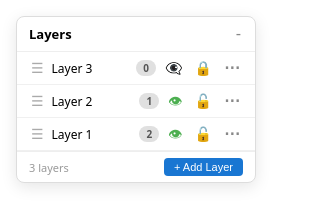
Test: LayerPanel › shows batch operations menu on click
Step 1. Click the button titled "Batch operations" in the row of "Layer 3" → (232, 68), box [221, 58, 243, 78]
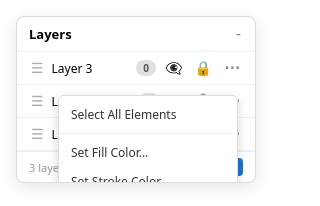
Result: the text "Select All Elements" is shown at [71, 106, 176, 123]
